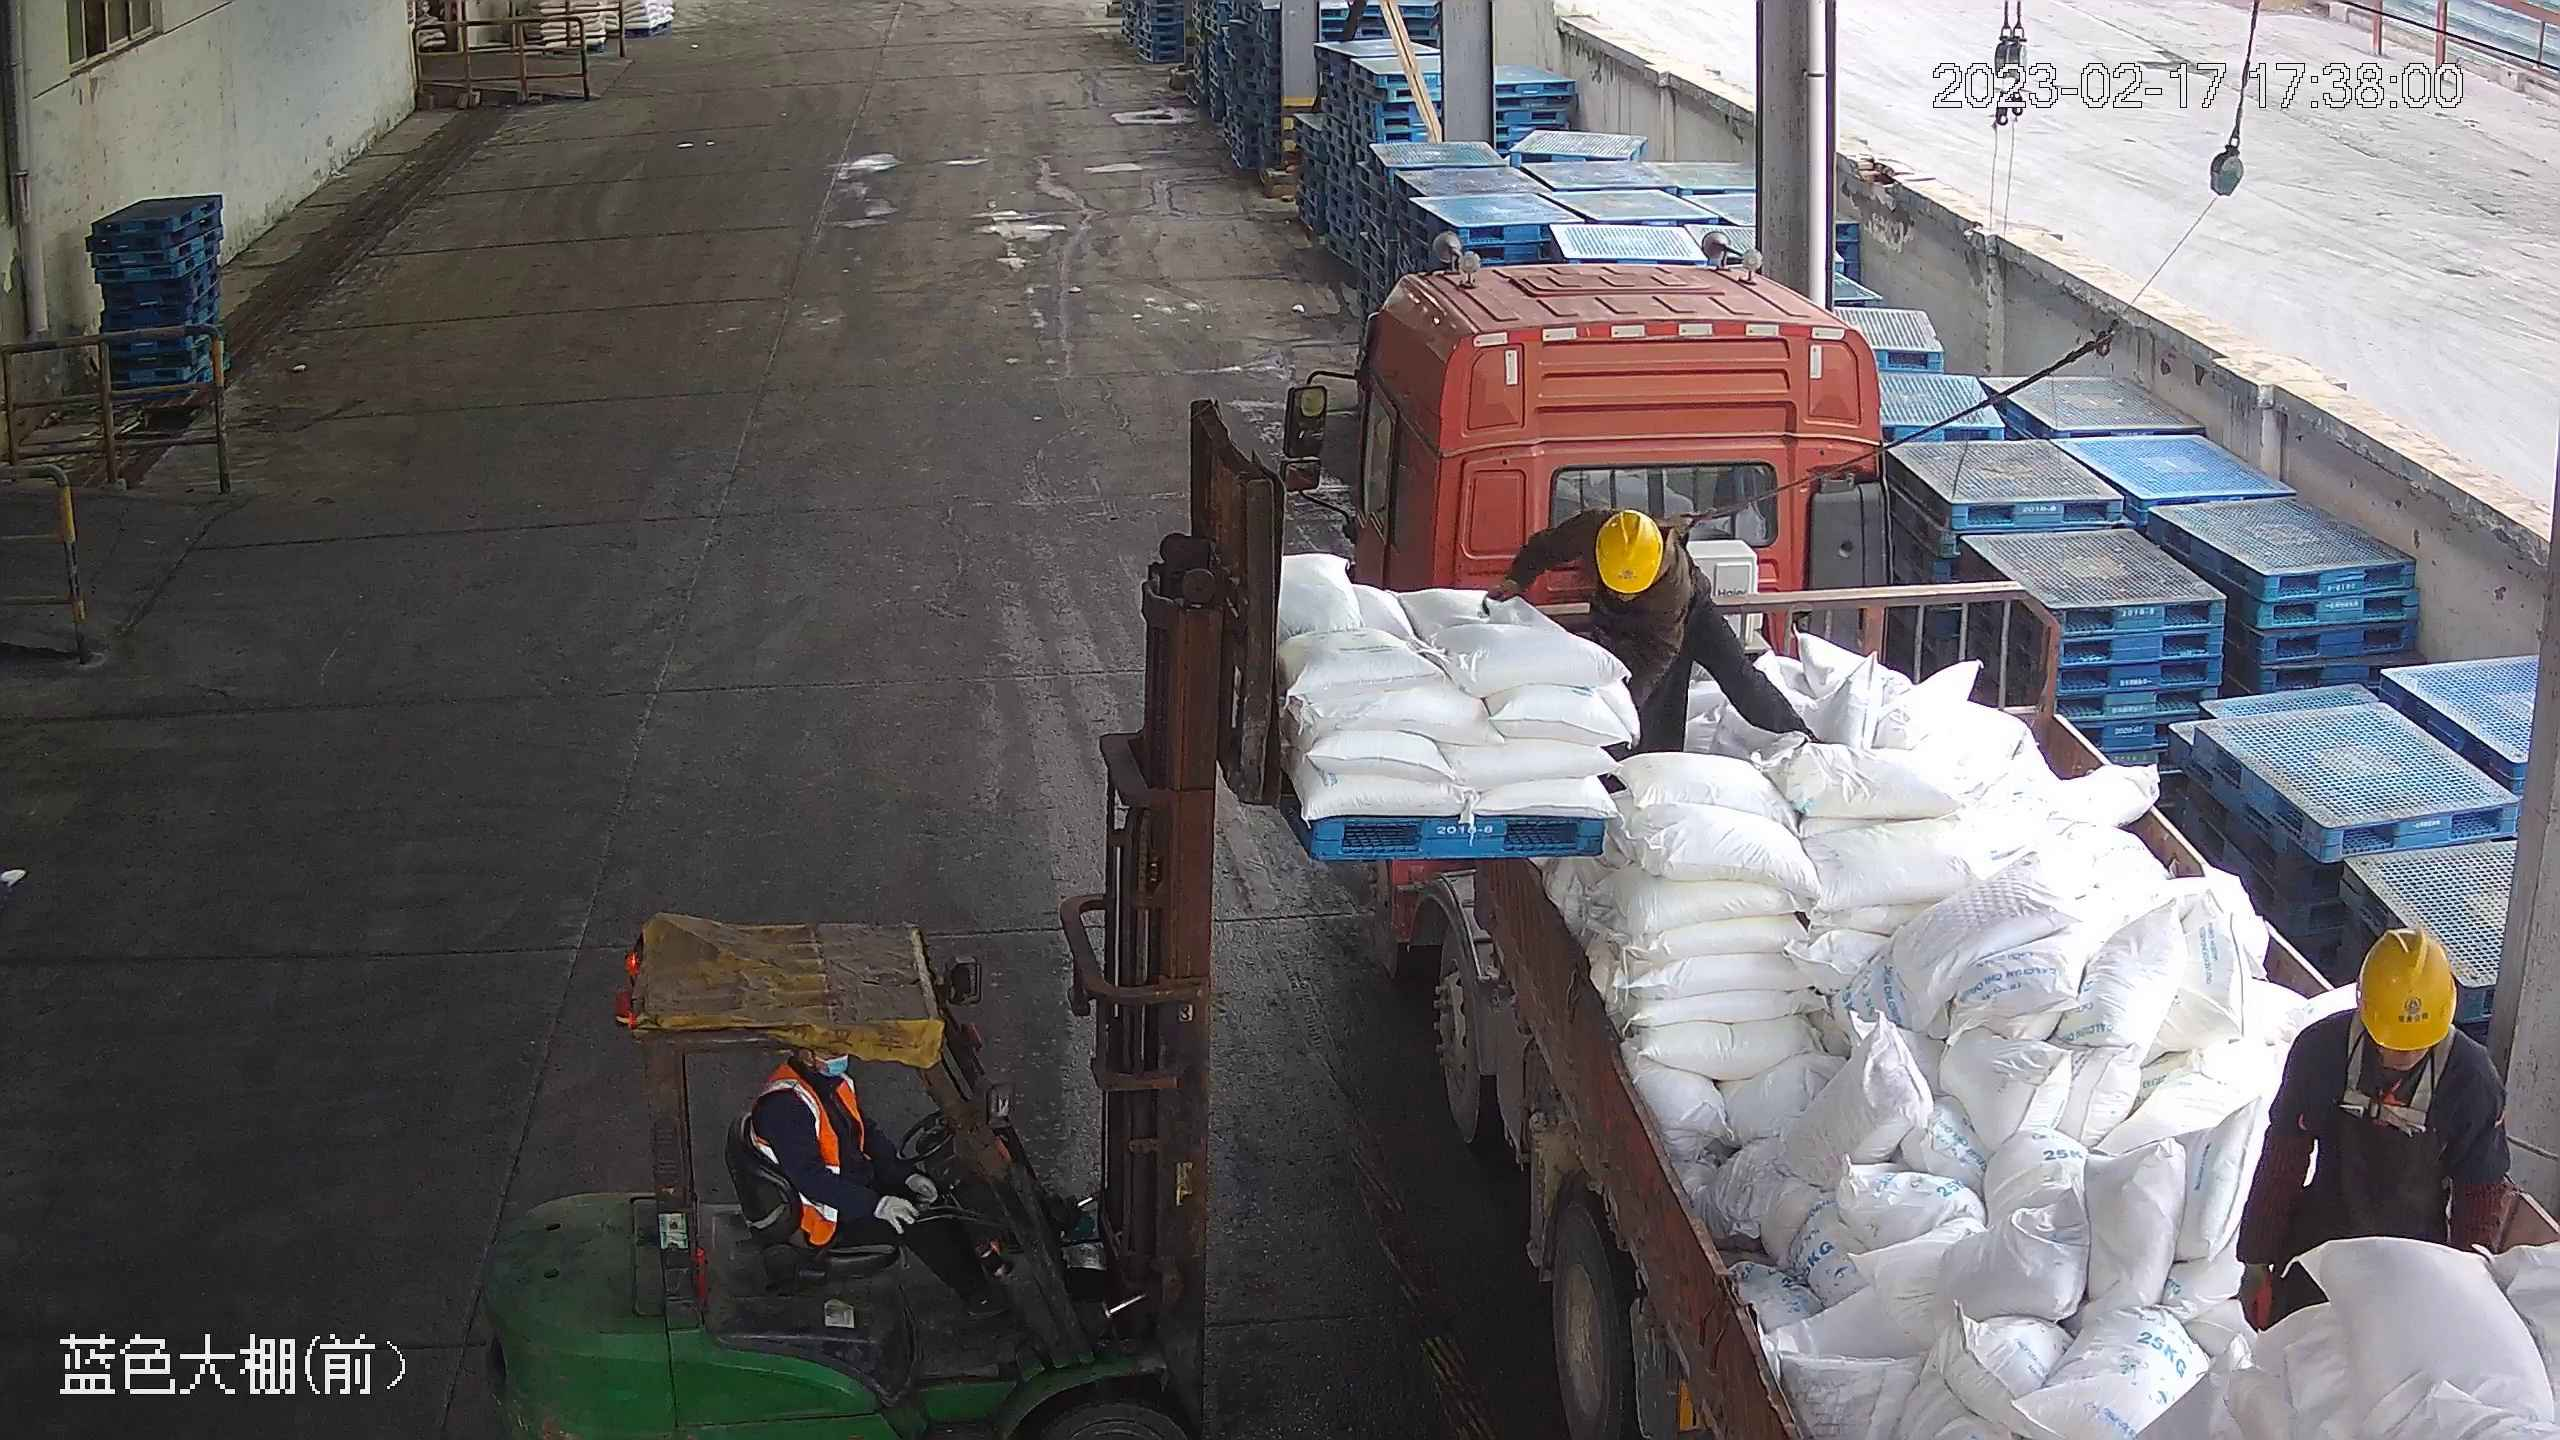belt: (2334, 1016, 2457, 1133)
head: (2278, 920, 2501, 1124), (1542, 500, 1709, 625), (746, 1038, 873, 1144)
helmet: (2353, 921, 2458, 1050)
people: (2227, 922, 2513, 1330), (1480, 497, 1807, 789), (740, 1034, 999, 1335)
truck: (1149, 196, 2555, 1435)
